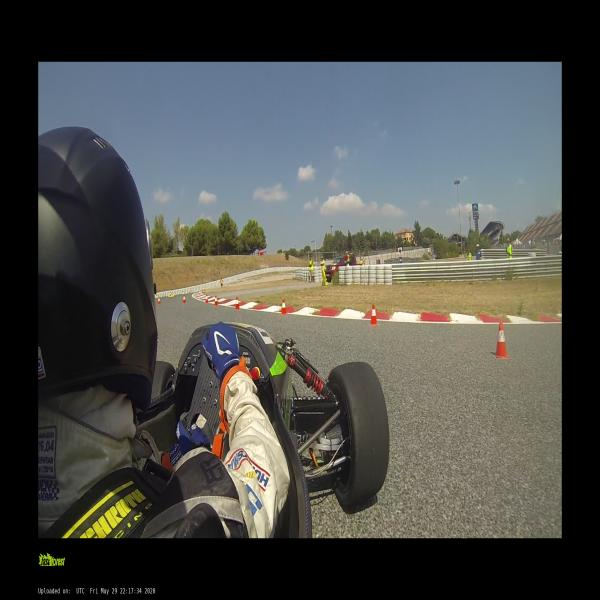orange_cone: (493, 322, 509, 361), (369, 304, 378, 326), (280, 298, 287, 315), (235, 297, 240, 310), (214, 296, 218, 306), (182, 295, 186, 304), (205, 294, 208, 304), (158, 298, 160, 306)
yellow_cone: (326, 278, 328, 286)
